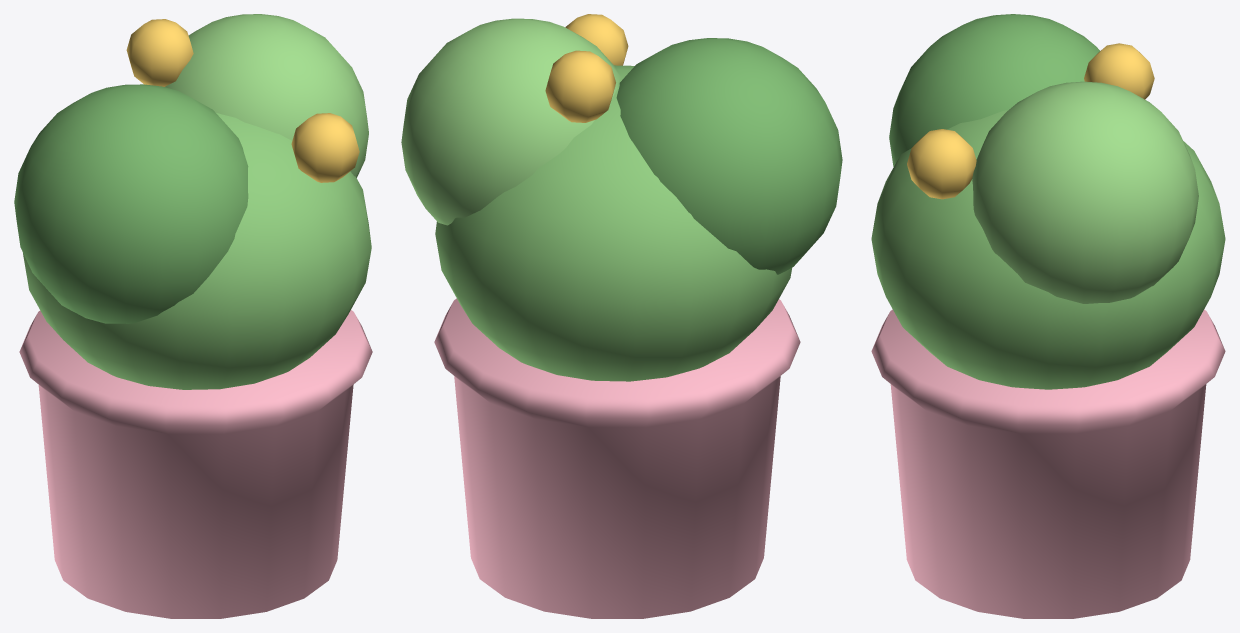
File: plant_small.glb
The picture shows the model from 3 angles, left to right: view 1: azimuth 30°, elevation 25°; view 2: azimuth 150°, elevation 25°; view 3: azimuth 270°, elevation 25°; orthographic projection. The views are drawn at different scales.
Parts seen in each view (by area): view 1: PlantSmall; view 2: PlantSmall; view 3: PlantSmall.
Boxes of the visible parts, x1,y1,x2,y2 form: PlantSmall: [14, 14, 372, 618]; PlantSmall: [401, 14, 842, 618]; PlantSmall: [871, 14, 1225, 618].
Size of the model in its own units: 0.235 by 0.32 by 0.2.
